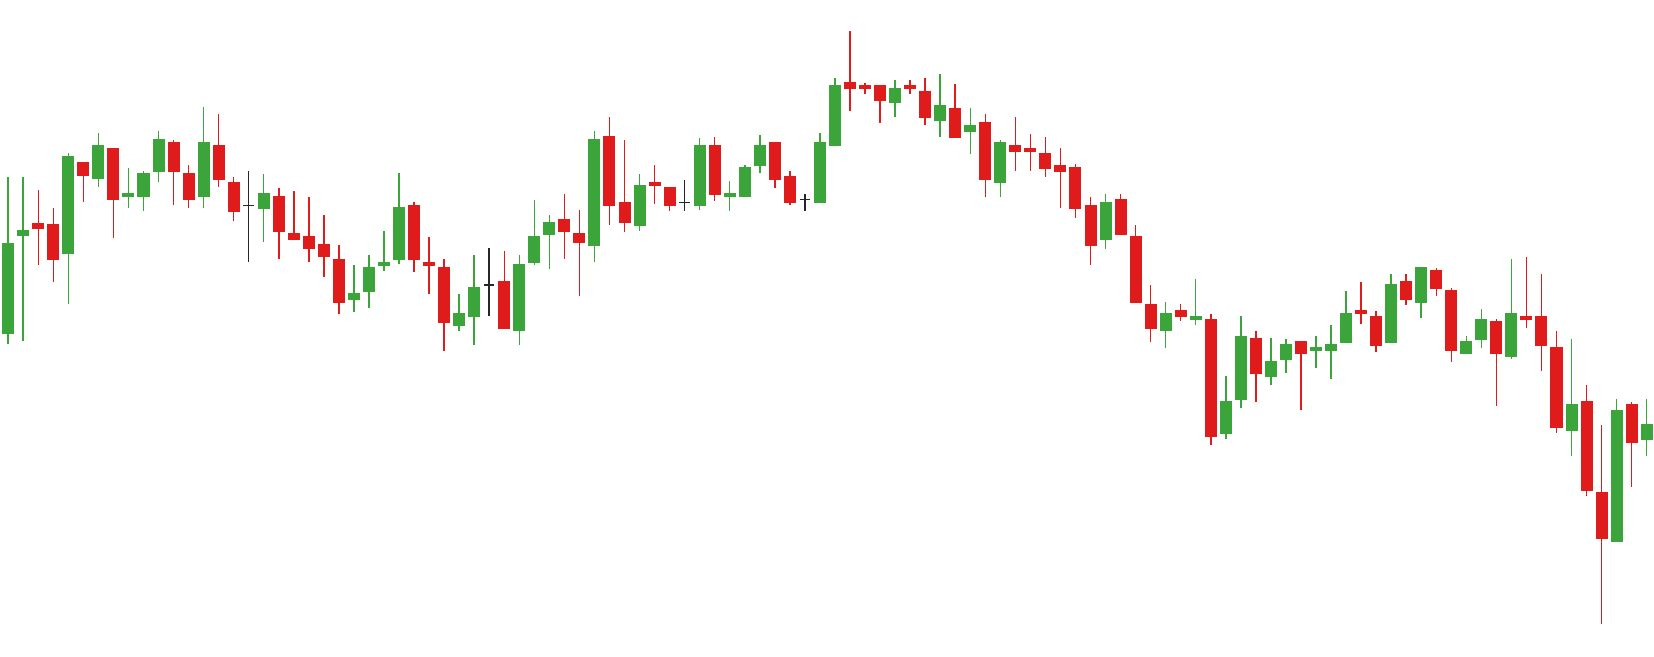buy: (331, 232, 483, 351)
sell: (1411, 259, 1531, 333)
